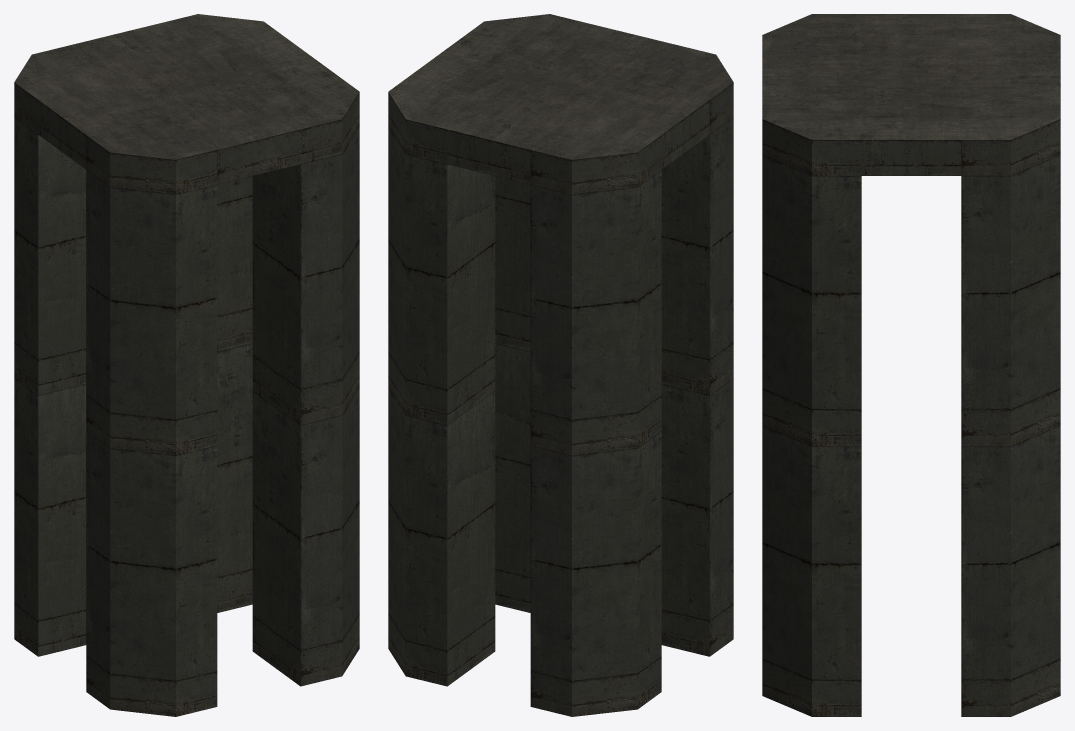
File: platform_mx_1.dae
3 renders of one model, left to right at view 1: azimuth 30°, elevation 25°; view 2: azimuth 150°, elevation 25°; view 3: azimuth 270°, elevation 25°, orthographic. The views are drawn at different scales.
Visible parts, largest first — view 1: platform_mx_1; view 2: platform_mx_1; view 3: platform_mx_1.
Part boxes in pixels (x1,y1,x2,y2): platform_mx_1: (14,14,359,716); platform_mx_1: (388,14,733,716); platform_mx_1: (762,14,1060,716).
Bounding box in the file's own units: 3 × 3 × 6.4.
2 materials, 2 textured.
